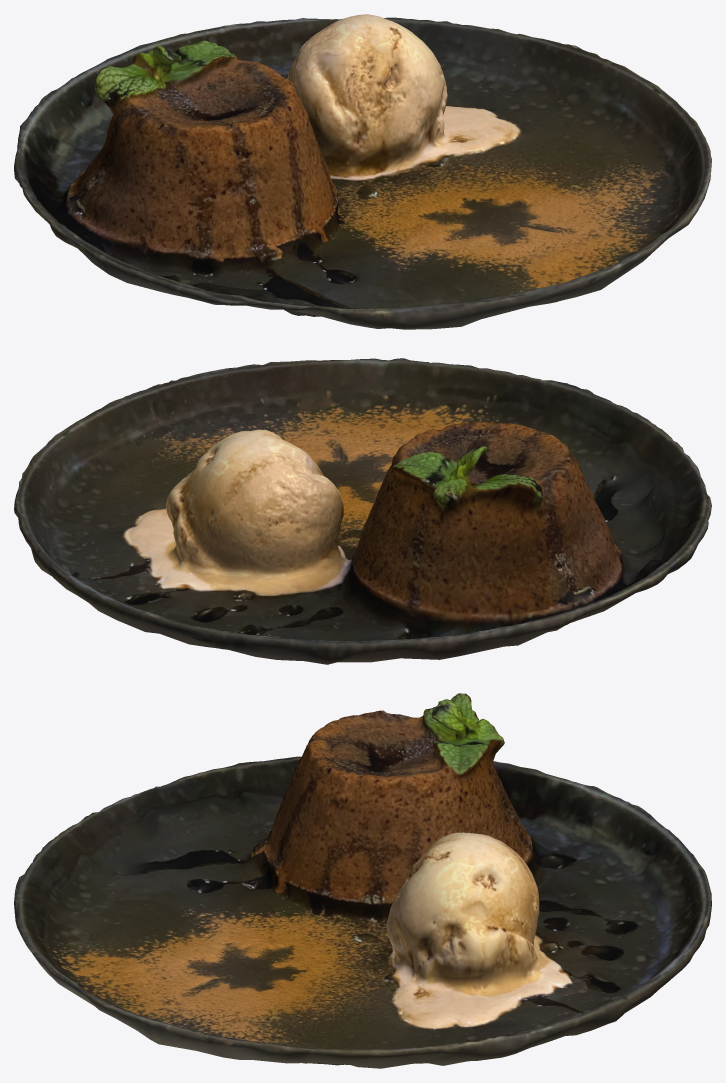
File: fondants-au-chocolat.ar.glb
3 renders of one model, top to bottom at view 1: azimuth 30°, elevation 25°; view 2: azimuth 150°, elevation 25°; view 3: azimuth 270°, elevation 25°, orthographic.
Parts seen in each view (by area): view 1: /ObjectCapture/Geometry/Mesh; view 2: /ObjectCapture/Geometry/Mesh; view 3: /ObjectCapture/Geometry/Mesh.
Boxes of the visible parts, x1,y1,x2,y2 form: /ObjectCapture/Geometry/Mesh: (14,14,711,329); /ObjectCapture/Geometry/Mesh: (14,358,711,664); /ObjectCapture/Geometry/Mesh: (14,693,711,1068).
Size of the model in its own units: 0.2112 by 0.0581 by 0.2113.
1 material, 1 textured.
